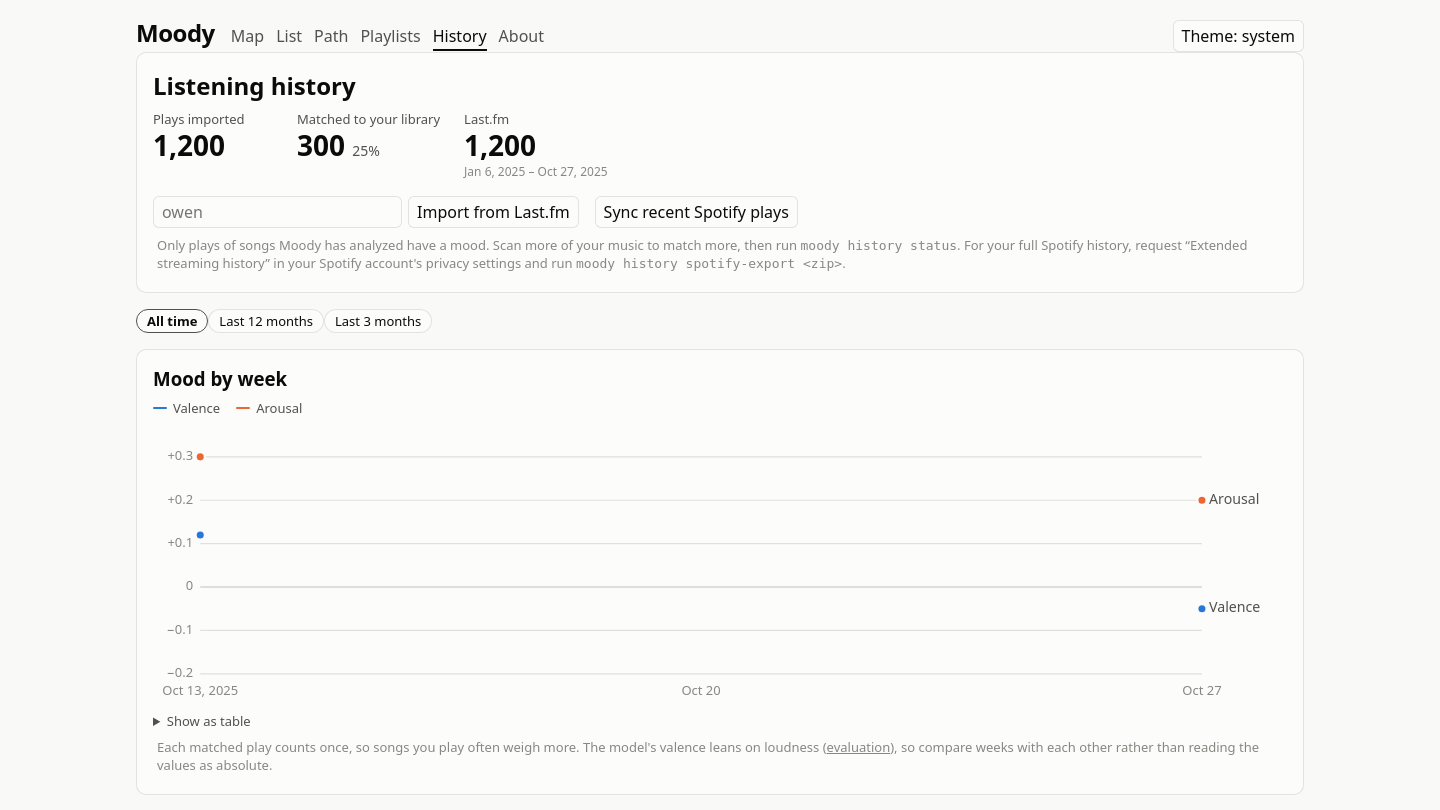
Last.fm import keeps going while there's more
Click the button "Import from Last.fm". click: [493, 212]
box: 408,196 -> 579,228
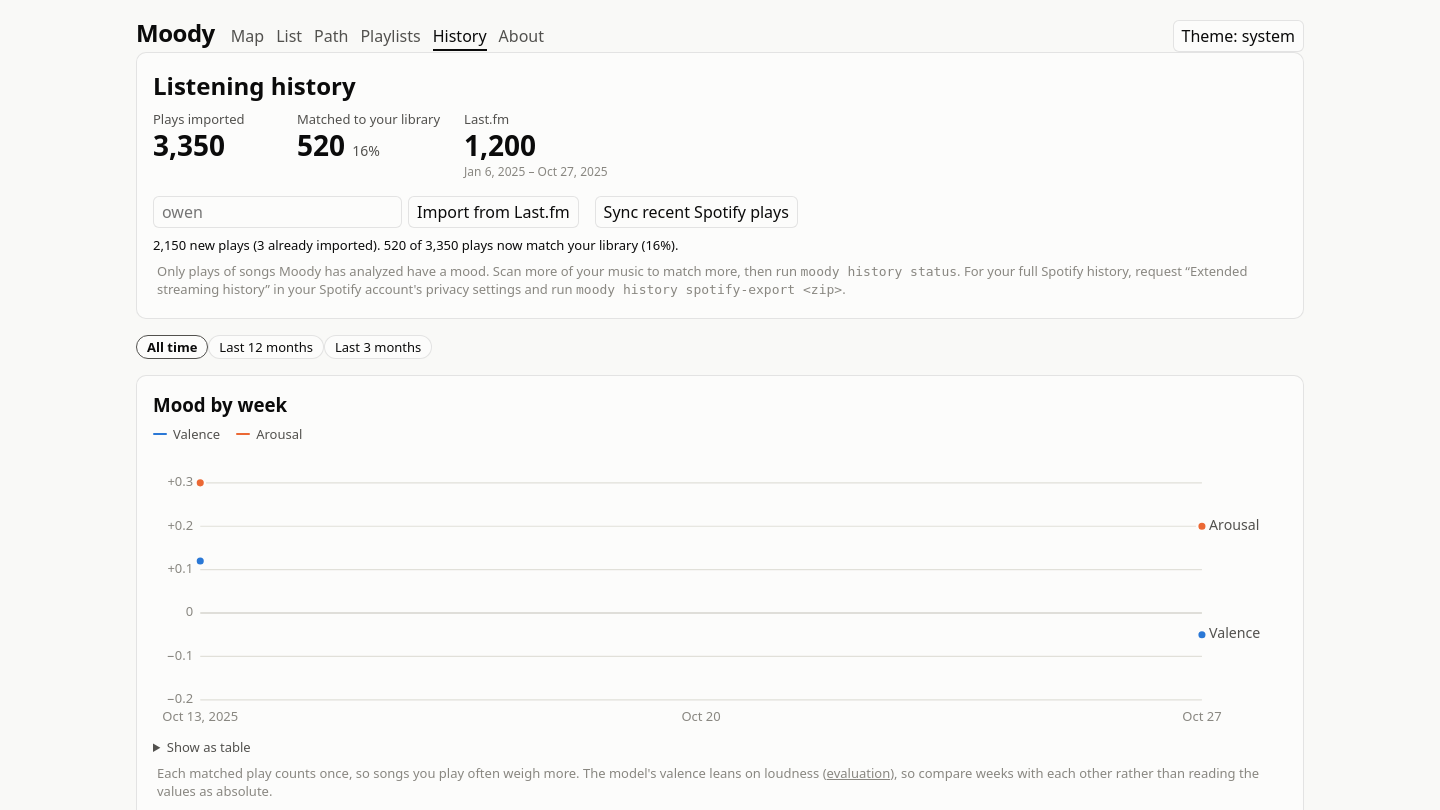
Result: the text "2,150 new plays (3 already imported). 520 of 3,350 plays now match" is shown at 153,236 -> 678,254
